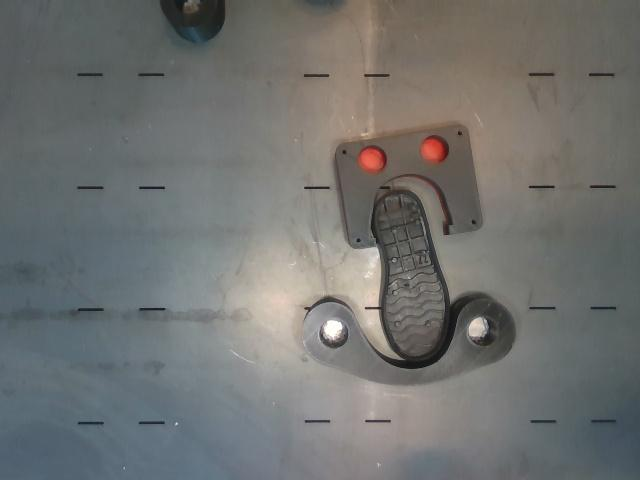shoes: (378, 193, 447, 361)
